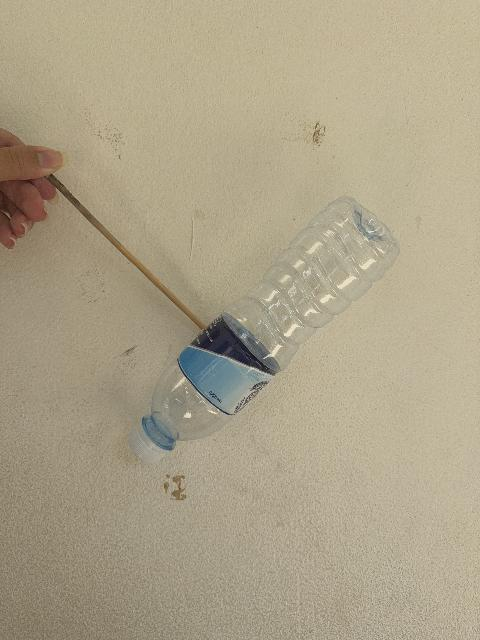bottle: (128, 197, 398, 462)
